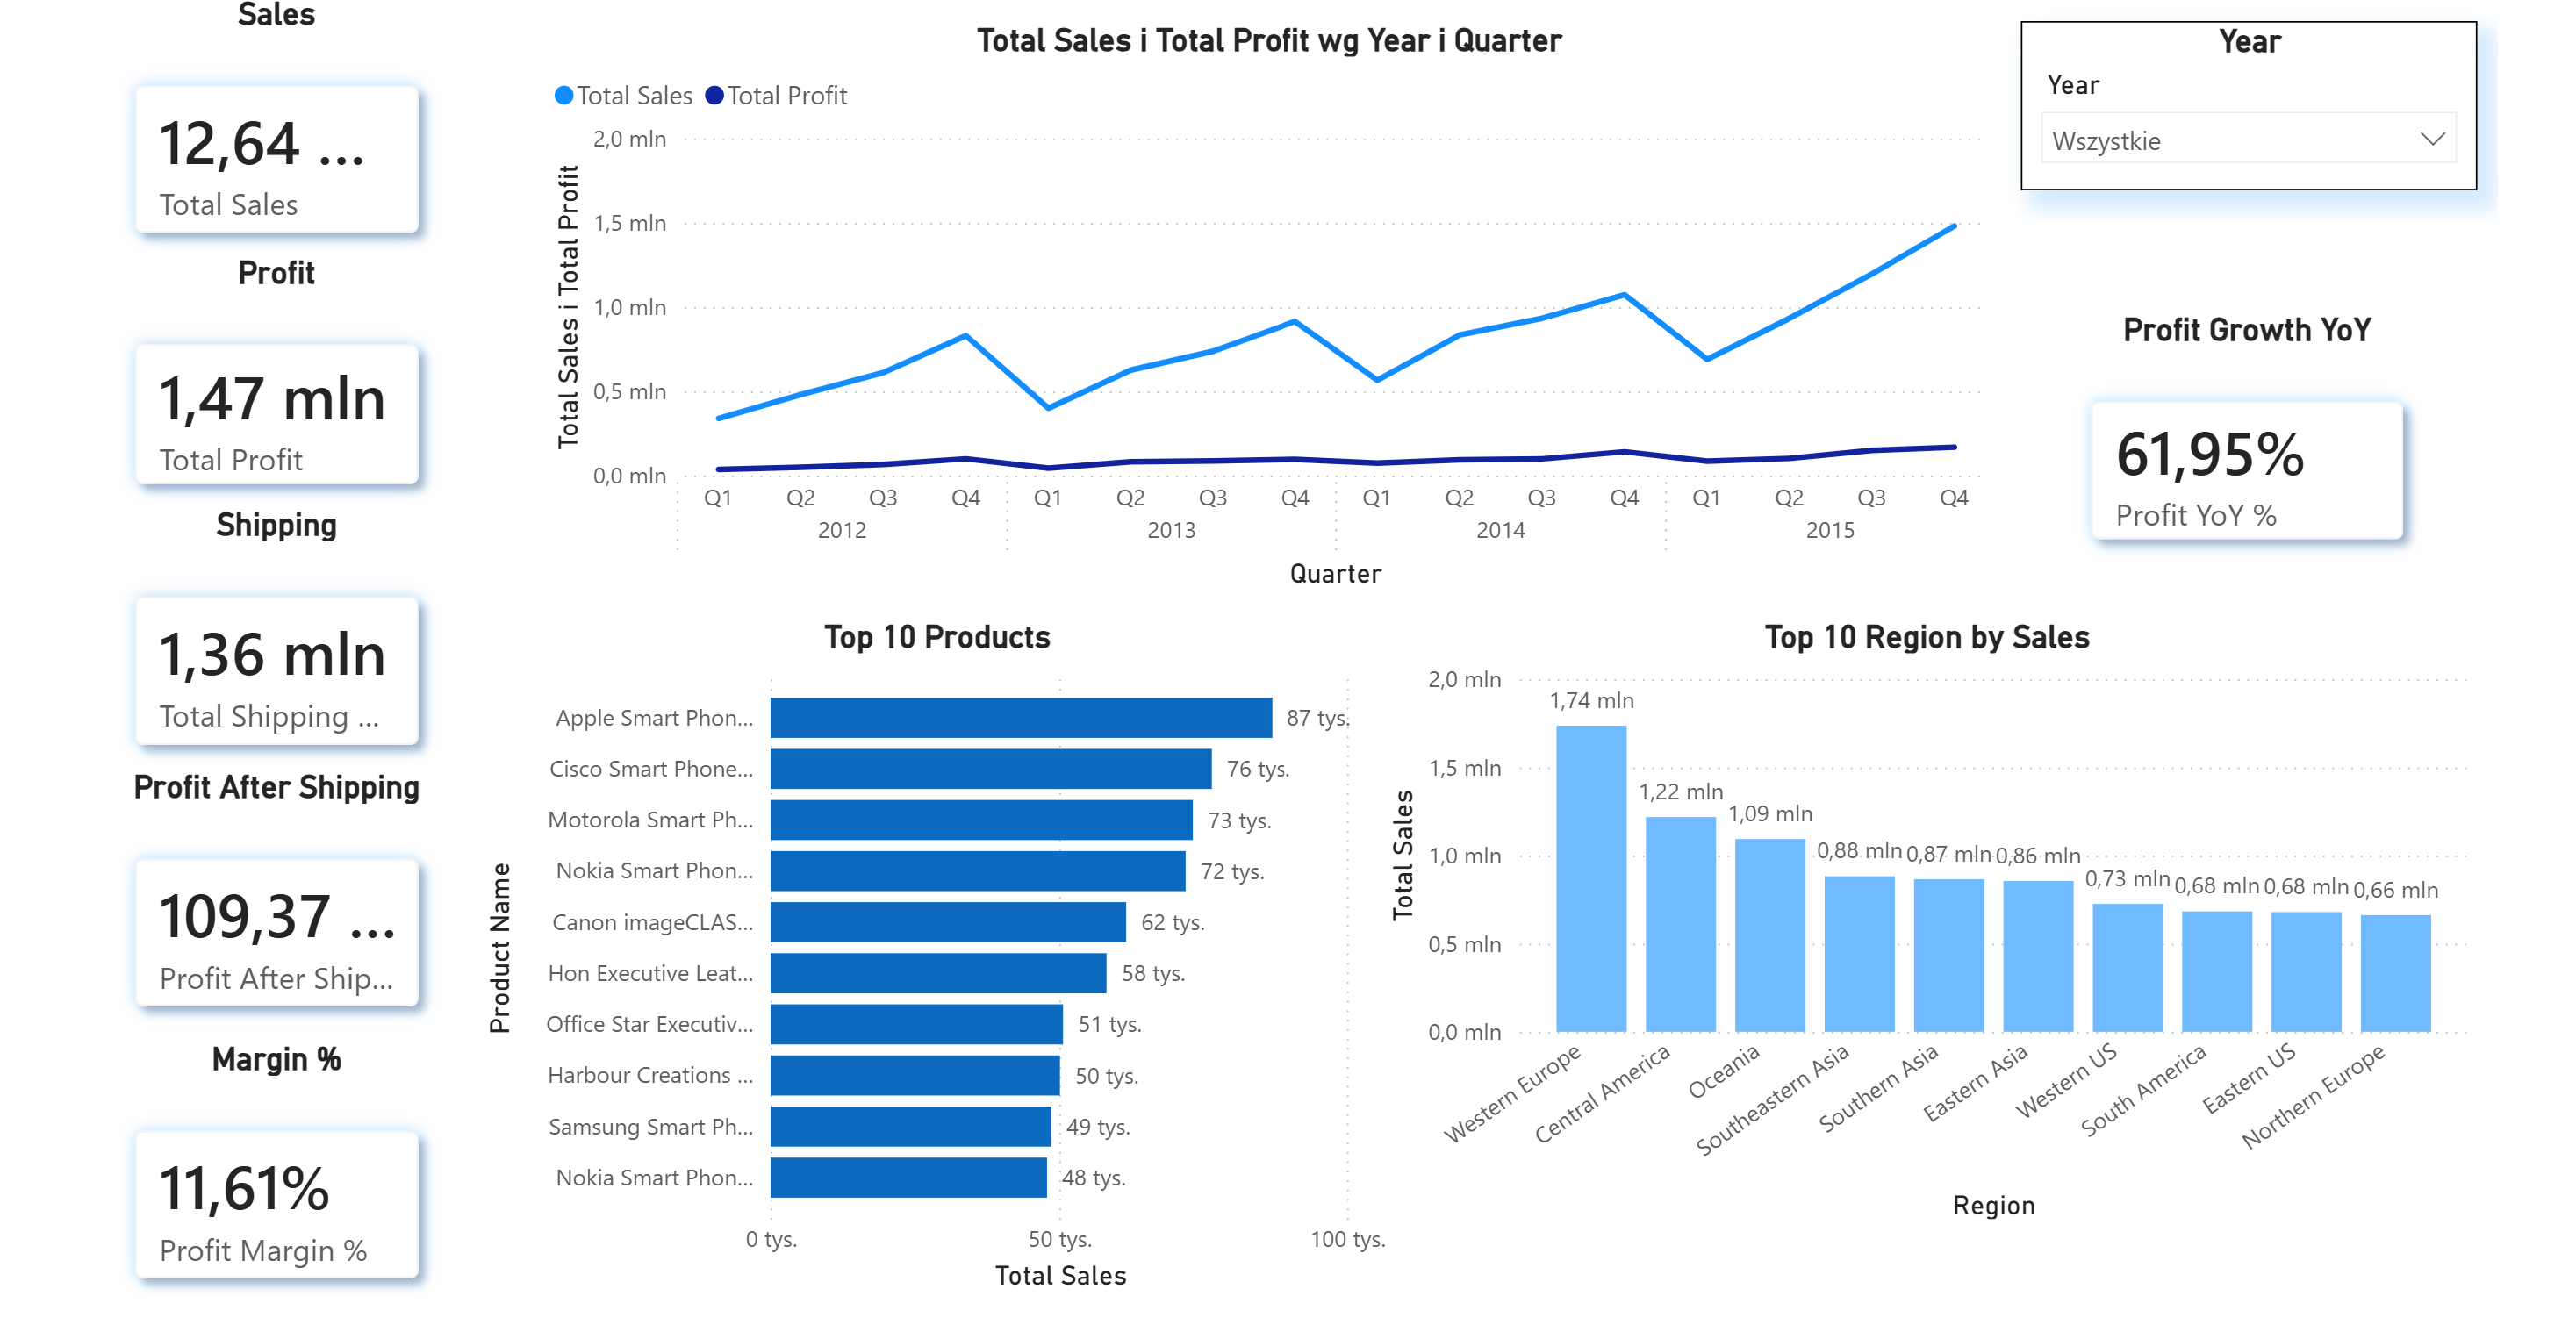

This screenshot's page, from the dashboard's own definition file:
{"tool":"powerbi","page":{"name":"Executive Summary","canvas":[1280,720],"ordinal":0},"visuals":[{"type":"cardVisual","title":"Sales","fields":{"Data":["Measures (2).Total Sales"]},"box":[0,0,208.6,155.1],"z":0},{"type":"cardVisual","title":"Profit","fields":{"Data":["Measures (2).Total Profit"]},"box":[0,137.2,208.6,150.9],"z":1000},{"type":"cardVisual","title":"Shipping","fields":{"Data":["Measures (2).Total Shipping Cost"]},"box":[0,270.3,208.6,156.4],"z":2000},{"type":"cardVisual","title":"Profit After Shipping","fields":{"Data":["Measures (2).Profit After Shipping"]},"box":[0,410.3,208.6,155.1],"z":3000},{"type":"cardVisual","title":"Margin %","fields":{"Data":["Measures (2).Profit Margin %"]},"box":[0,554.4,208.6,155.1],"z":4000},{"type":"slicer","title":"Year","fields":{"Values":["DimDate.Year"]},"box":[1027.8,13.8,241.4,89.7],"z":5000},{"type":"lineChart","fields":{"Y":["Measures (2).Total Sales","Measures (2).Total Profit"],"Category":["DimDate.Year","DimDate.Quarter","DimDate.Month Name"]},"box":[245.6,13.8,769.8,304.9],"z":6000},{"type":"clusteredBarChart","title":"Top 10 Products","fields":{"Y":["Measures (2).Total Sales"],"Category":["Product.Product Name"]},"box":[208.6,329.3,489.9,360.9],"z":7000},{"type":"clusteredColumnChart","title":"Top 10 Region by Sales","fields":{"Category":["Address.Region"],"Y":["Measures (2).Total Sales"]},"box":[687.5,329.3,581.8,323.8],"z":8000},{"type":"cardVisual","title":"Profit Growth YoY","fields":{"Data":["Measures (2).Profit YoY %"]},"box":[1035.7,167.5,223.8,150.4],"z":9000}]}

Visuals, with their boxes on the page's 1280x720 design canvas (x1, y1, x2, y2). These are canvas units, not pixel positions in the 2576x1325 screenshot, which may show the page scaled, cropped or inside an application window:
"Sales" cardVisual: x1=0, y1=0, x2=209, y2=155
"Profit" cardVisual: x1=0, y1=137, x2=209, y2=288
"Shipping" cardVisual: x1=0, y1=270, x2=209, y2=427
"Profit After Shipping" cardVisual: x1=0, y1=410, x2=209, y2=565
"Margin %" cardVisual: x1=0, y1=554, x2=209, y2=710
"Year" slicer: x1=1028, y1=14, x2=1269, y2=104
lineChart - Measures (2).Total Sales x Measures (2).Total Profit: x1=246, y1=14, x2=1015, y2=319
"Top 10 Products" clusteredBarChart: x1=209, y1=329, x2=698, y2=690
"Top 10 Region by Sales" clusteredColumnChart: x1=688, y1=329, x2=1269, y2=653
"Profit Growth YoY" cardVisual: x1=1036, y1=168, x2=1260, y2=318
